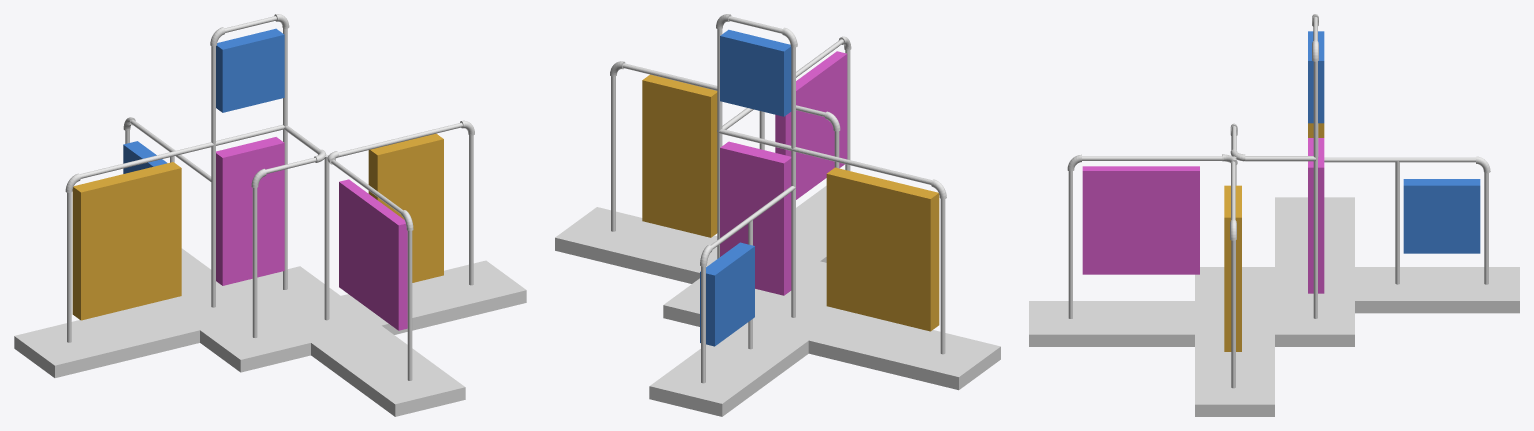
File: flower_map_01.fbx
3 renders of one model, left to right at view 1: azimuth 30°, elevation 25°; view 2: azimuth 150°, elevation 25°; view 3: azimuth 270°, elevation 25°, orthographic. The views are drawn at different scales.
Visible parts, largest first — view 1: Cube, Cube.005, Cube.004, Cube.002, Cube.006, Cube.003, pole_01.005, pole_01.011, pole_01.003, pole_01.004, pole_01.006, pole_01 (+5 smaller); view 2: Cube, Cube.005, Cube.006, Cube.004, Cube.002, Cube.003, Cube.001, pole_01.005, pole_01.011, pole_01.007, pole_01.003, pole_01.001 (+4 smaller); view 3: Cube, Cube.002, Cube.001, Cube.006, Cube.004, pole_01.003, Cube.003, pole_01.017, pole_01.001, pole_01, pole_01.010, pole_01.002 (+1 smaller).
Part boxes in pixels (left/top/right/bottom): Cube: left=14, top=248, right=526, bottom=416; Cube.005: left=72, top=162, right=181, bottom=320; Cube.004: left=216, top=137, right=284, bottom=285; Cube.002: left=339, top=179, right=407, bottom=330; Cube.006: left=368, top=133, right=443, bottom=282; Cube.003: left=216, top=28, right=284, bottom=112; pole_01.005: left=211, top=46, right=215, bottom=307; pole_01.011: left=79, top=124, right=284, bottom=178; pole_01.003: left=283, top=28, right=287, bottom=289; pole_01.004: left=324, top=155, right=329, bottom=320; pole_01.006: left=252, top=188, right=257, bottom=337; pole_01: left=407, top=231, right=412, bottom=380; Cube: left=555, top=185, right=1000, bottom=416; Cube.005: left=826, top=167, right=939, bottom=331; Cube.006: left=642, top=74, right=717, bottom=237; Cube.004: left=720, top=141, right=791, bottom=295; Cube.002: left=775, top=51, right=847, bottom=199; Cube.003: left=720, top=29, right=791, bottom=116; Cube.001: left=700, top=242, right=754, bottom=346; pole_01.005: left=791, top=47, right=795, bottom=317; pole_01.011: left=718, top=129, right=931, bottom=184; pole_01.007: left=940, top=199, right=945, bottom=354; pole_01.003: left=717, top=29, right=722, bottom=258; pole_01.001: left=611, top=76, right=615, bottom=231; Cube: left=1029, top=197, right=1519, bottom=416; Cube.002: left=1082, top=166, right=1199, bottom=274; Cube.001: left=1403, top=179, right=1480, bottom=253; Cube.006: left=1224, top=185, right=1241, bottom=351; Cube.004: left=1308, top=138, right=1324, bottom=293; pole_01.003: left=1313, top=61, right=1317, bottom=318; Cube.003: left=1308, top=31, right=1324, bottom=123; pole_01.017: left=1324, top=157, right=1475, bottom=162; pole_01.001: left=1231, top=240, right=1235, bottom=388; pole_01: left=1068, top=171, right=1072, bottom=318; pole_01.010: left=1082, top=156, right=1222, bottom=160; pole_01.002: left=1395, top=161, right=1399, bottom=284.
Bounding box in the file's own units: 5990 × 3845 × 5991.
